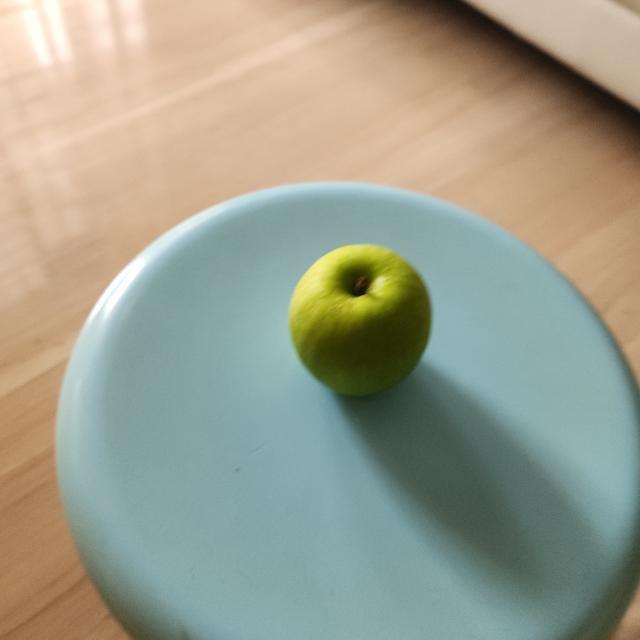apple: (283, 240, 437, 404)
